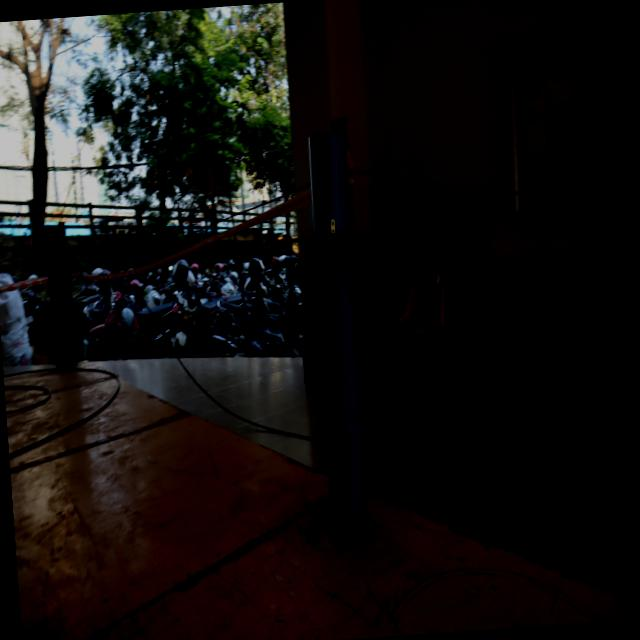pole: (269, 123, 396, 300), (27, 216, 86, 292)
